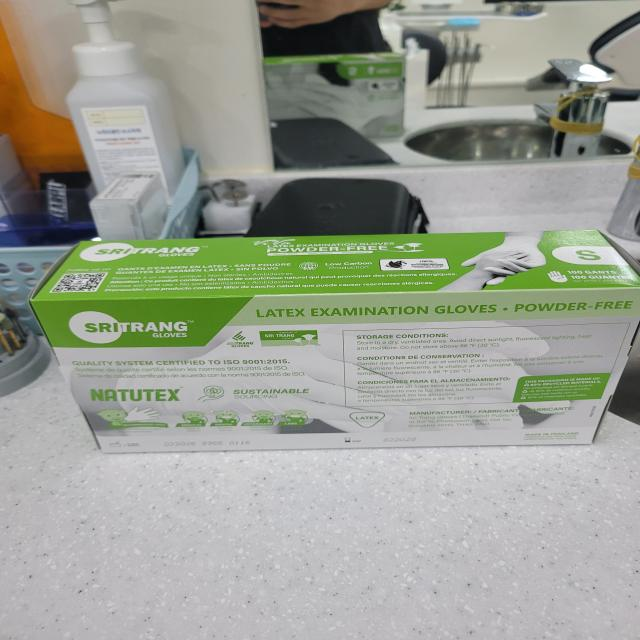glove: (8, 226, 640, 469)
